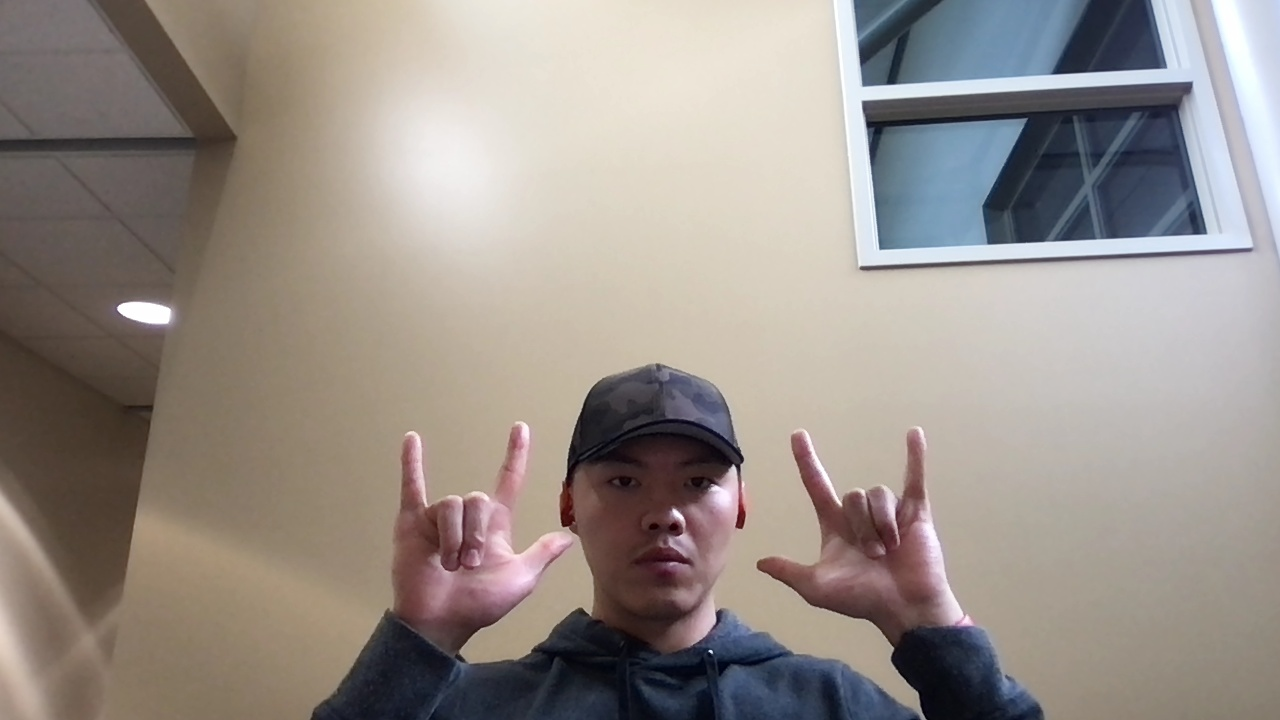I Love You: (755, 421, 960, 621), (393, 421, 577, 634)
